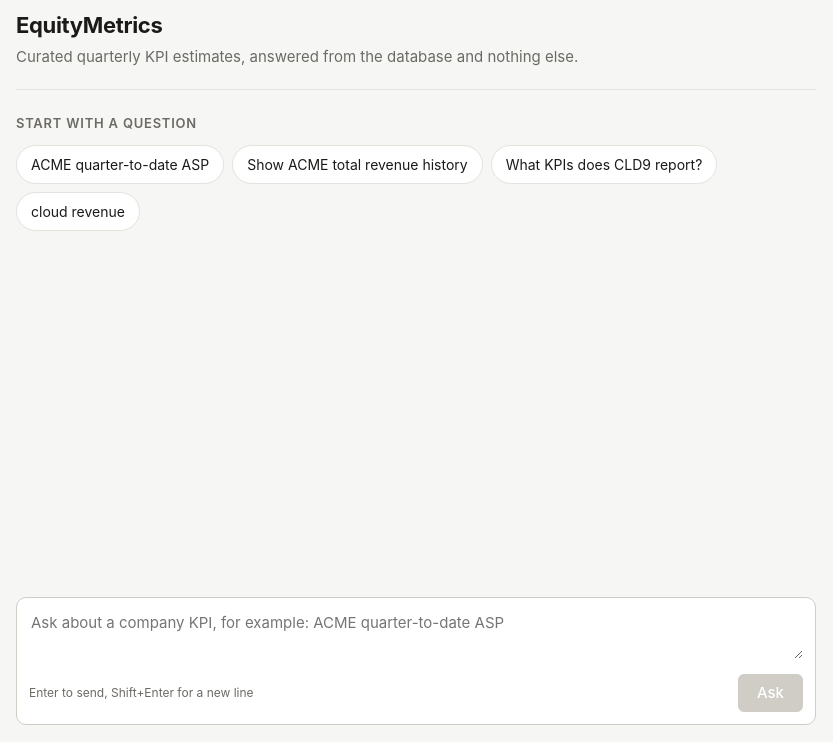
Test: failures › a service failure is reported with its message
The width and height of the screenshot is (833, 742).
Click the button "ACME quarter-to-date ASP" at (120, 164), box [16,145,224,184]
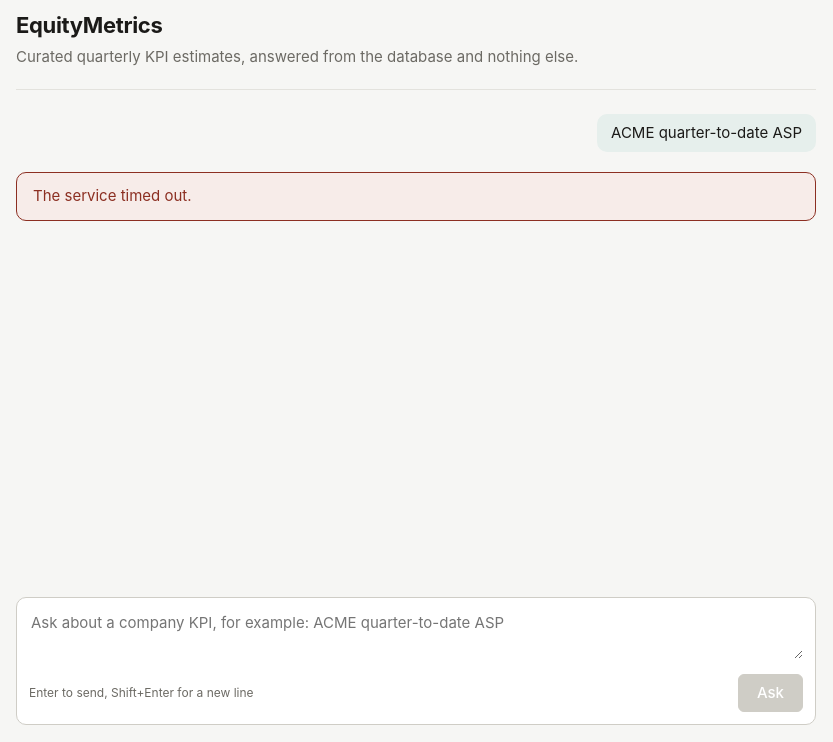
Now the message reads "The service timed out.", box [33,186,192,205]
